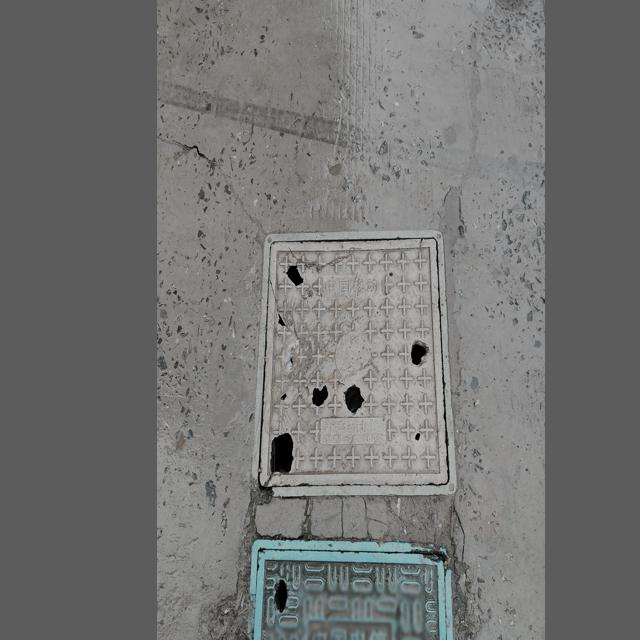broke: (255, 227, 457, 500)
